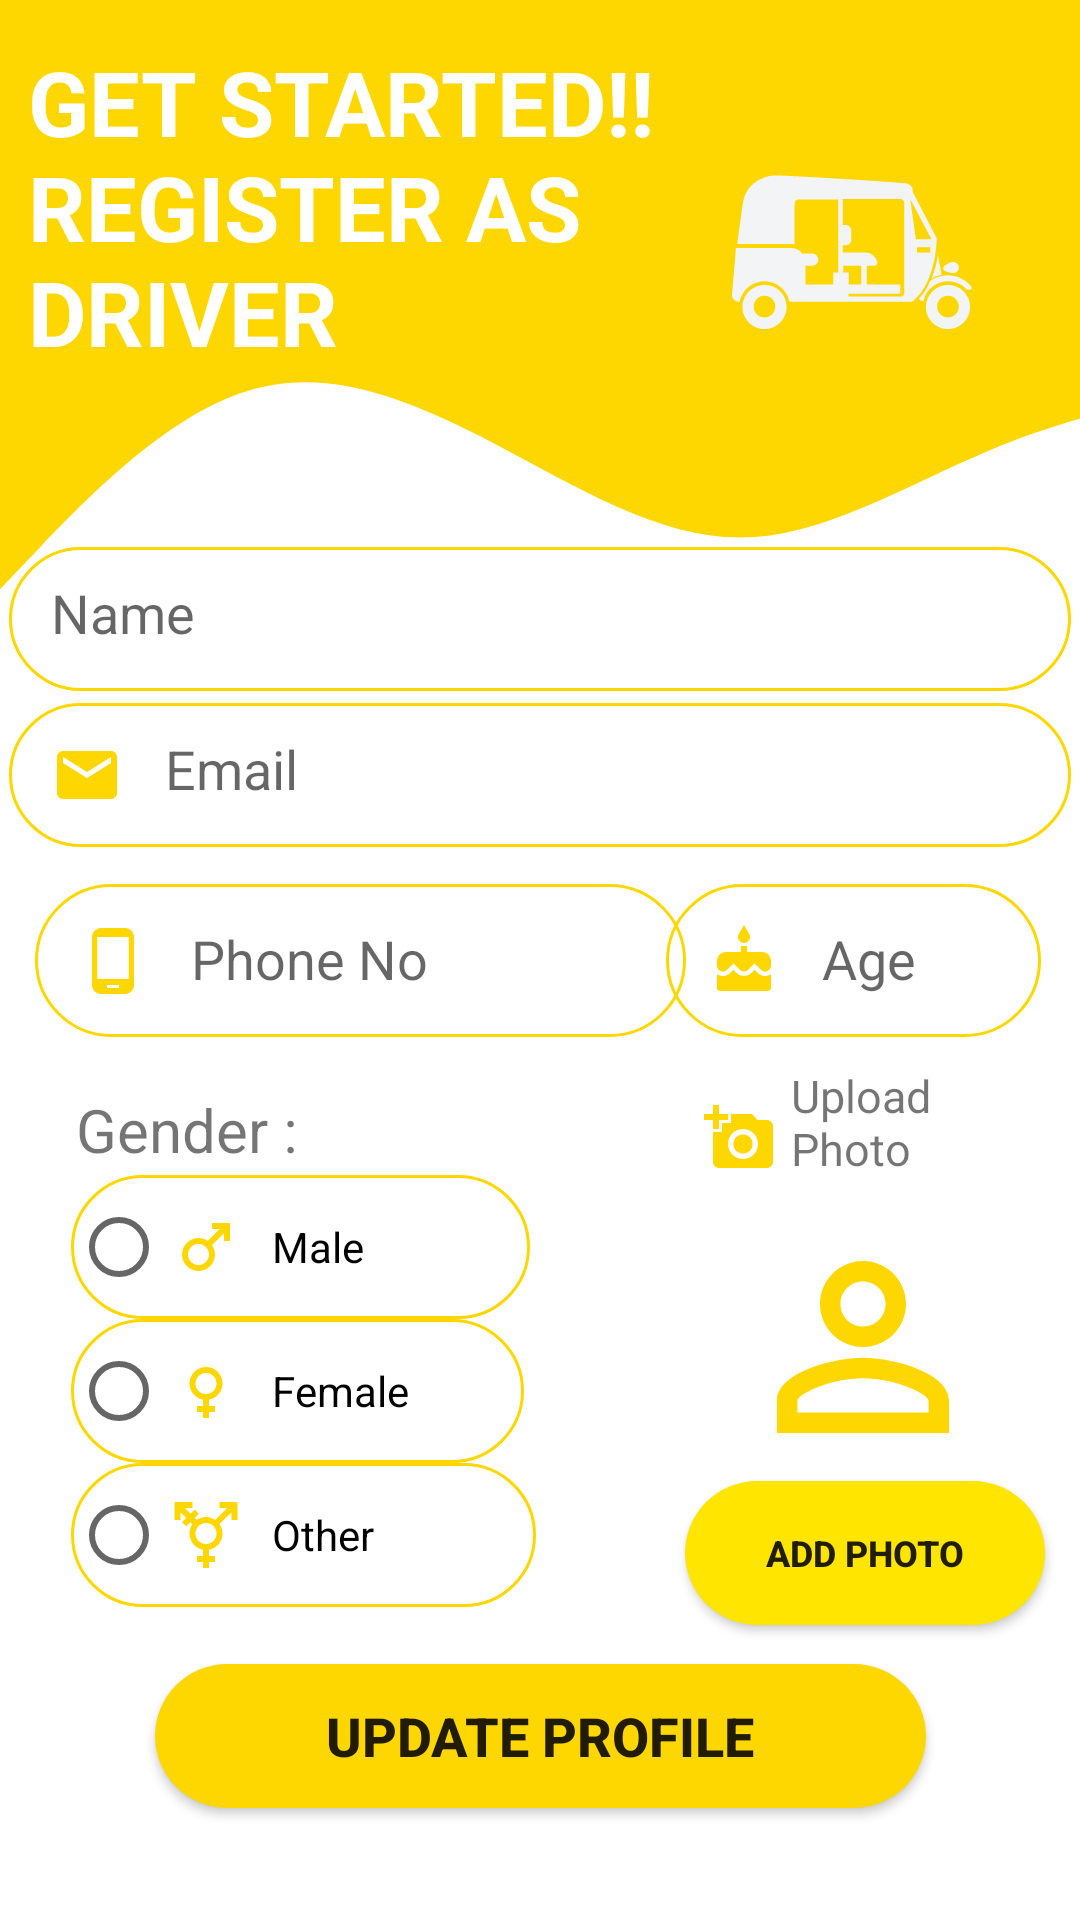

Icon bounding boxes for this 1080x1920 phone screenshot, format BBox(x1, y1, x2, y2):
person: BBox(777, 1261, 949, 1433)
rickshaw: BBox(635, 73, 972, 329)
